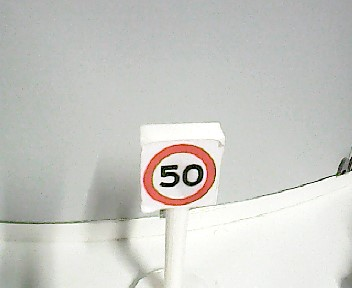50-bord: (142, 145, 213, 208)
